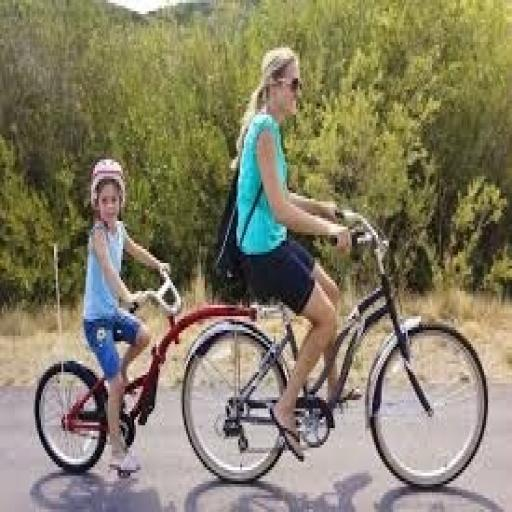cycling: (227, 44, 356, 462), (80, 154, 173, 481)
